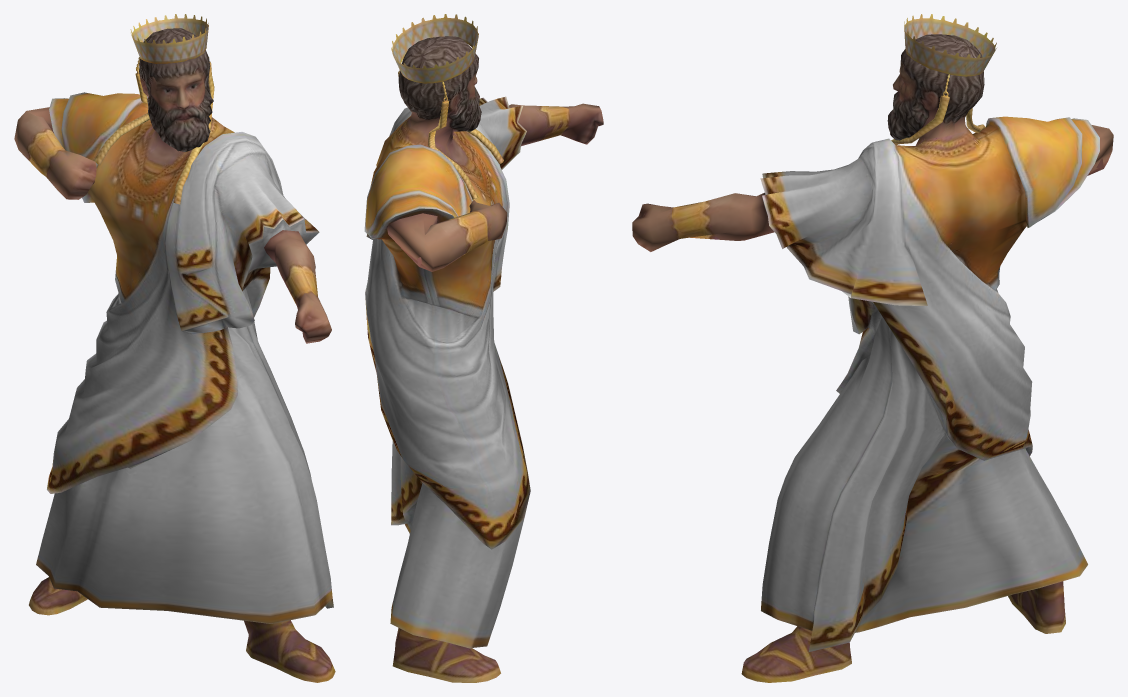
File: body-ranged-base.glb
The picture shows the model from 3 angles, left to right: view 1: azimuth 30°, elevation 25°; view 2: azimuth 150°, elevation 25°; view 3: azimuth 270°, elevation 25°; orthographic projection. The views are drawn at different scales.
Bounding box in the file's own units: 0.7005 × 2.07 × 1.45.
1 material, 1 textured.
